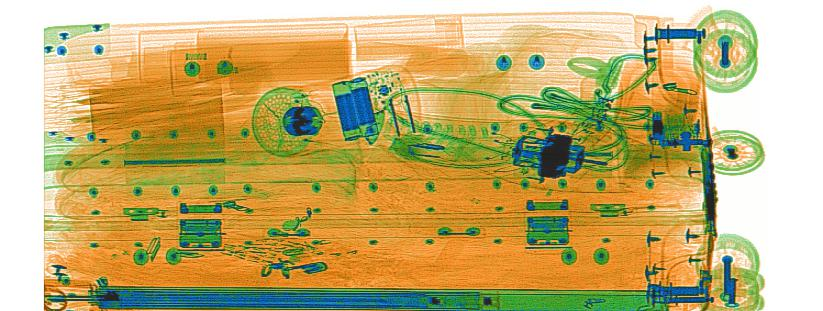battery: (331, 75, 378, 142)
plasticBottleWithaNozzle: (137, 22, 351, 86), (168, 41, 355, 98)
